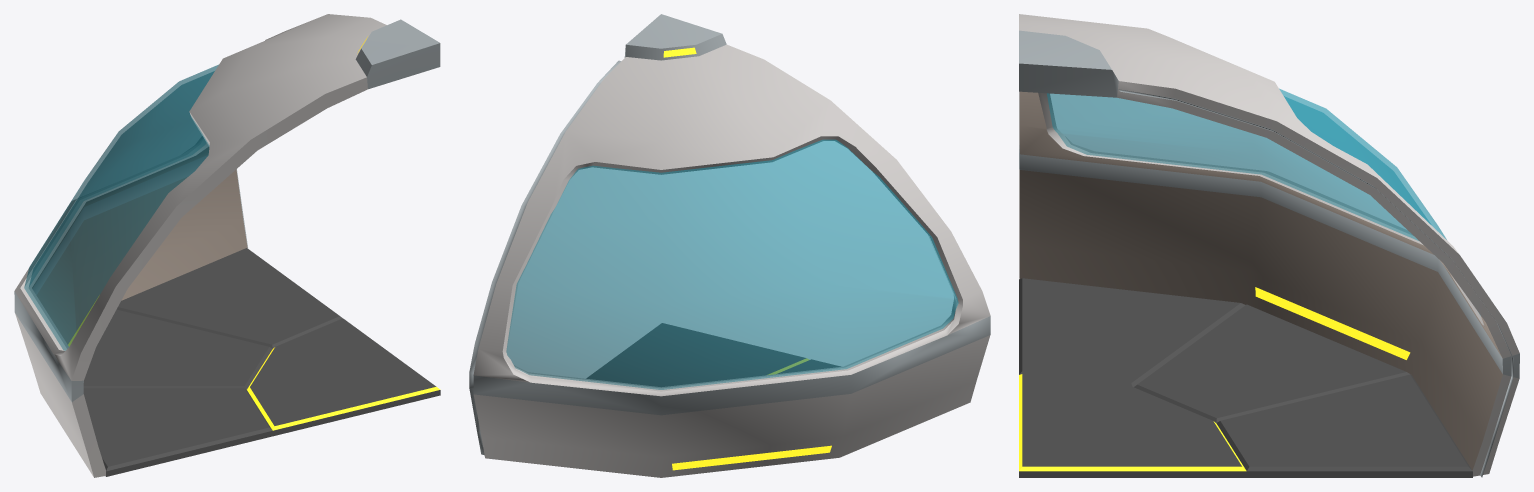
Rendered from quarter_dome_window.glb.
The picture shows the model from 3 angles, left to right: view 1: azimuth 30°, elevation 25°; view 2: azimuth 150°, elevation 25°; view 3: azimuth 270°, elevation 25°; orthographic projection. The views are drawn at different scales.
Visible parts, largest first — view 1: quarter_window_closed-end, floor_quarter, quarter_window_closed-end.001, quarter_window_closed-end.002; view 2: quarter_window_closed-end, quarter_window_closed-end.001, quarter_window_closed-end.002, floor_quarter, quarter_solid_connector; view 3: quarter_window_closed-end, floor_quarter, quarter_window_closed-end.001, quarter_window_closed-end.002, quarter_solid_connector.
Boxes of the visible parts, left/top/right/bottom form: quarter_window_closed-end: left=14, top=14, right=440, bottom=477; floor_quarter: left=83, top=248, right=440, bottom=476; quarter_window_closed-end.001: left=24, top=65, right=218, bottom=350; quarter_window_closed-end.002: left=25, top=65, right=217, bottom=347; quarter_window_closed-end: left=473, top=14, right=990, bottom=477; quarter_window_closed-end.001: left=506, top=140, right=958, bottom=389; quarter_window_closed-end.002: left=508, top=141, right=955, bottom=387; floor_quarter: left=586, top=323, right=840, bottom=386; quarter_solid_connector: left=469, top=60, right=621, bottom=455; quarter_window_closed-end: left=1019, top=14, right=1519, bottom=476; floor_quarter: left=1019, top=278, right=1472, bottom=477; quarter_window_closed-end.001: left=1047, top=89, right=1446, bottom=240; quarter_window_closed-end.002: left=1050, top=89, right=1444, bottom=237; quarter_solid_connector: left=1118, top=89, right=1513, bottom=477.
Size of what is drawn, in the model's own units: 2.96 by 2.67 by 2.93.
